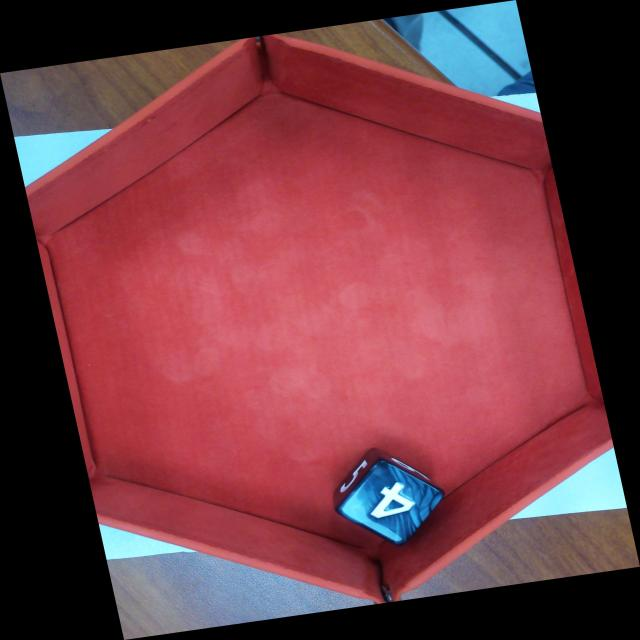dice: (332, 456, 450, 550)
